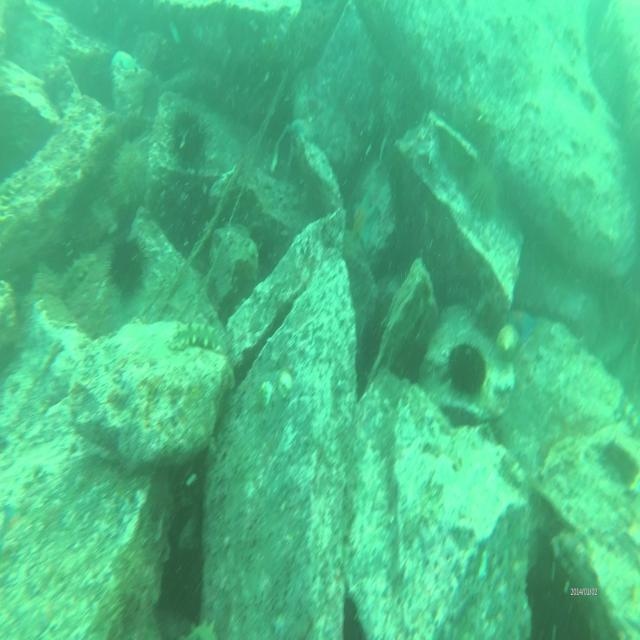echinus: (107, 134, 155, 210), (165, 100, 211, 173), (103, 237, 150, 304), (449, 337, 492, 409), (464, 159, 504, 227)
holothurian: (55, 247, 97, 307), (168, 322, 226, 358)
starfish: (507, 302, 539, 351), (353, 186, 377, 251)
